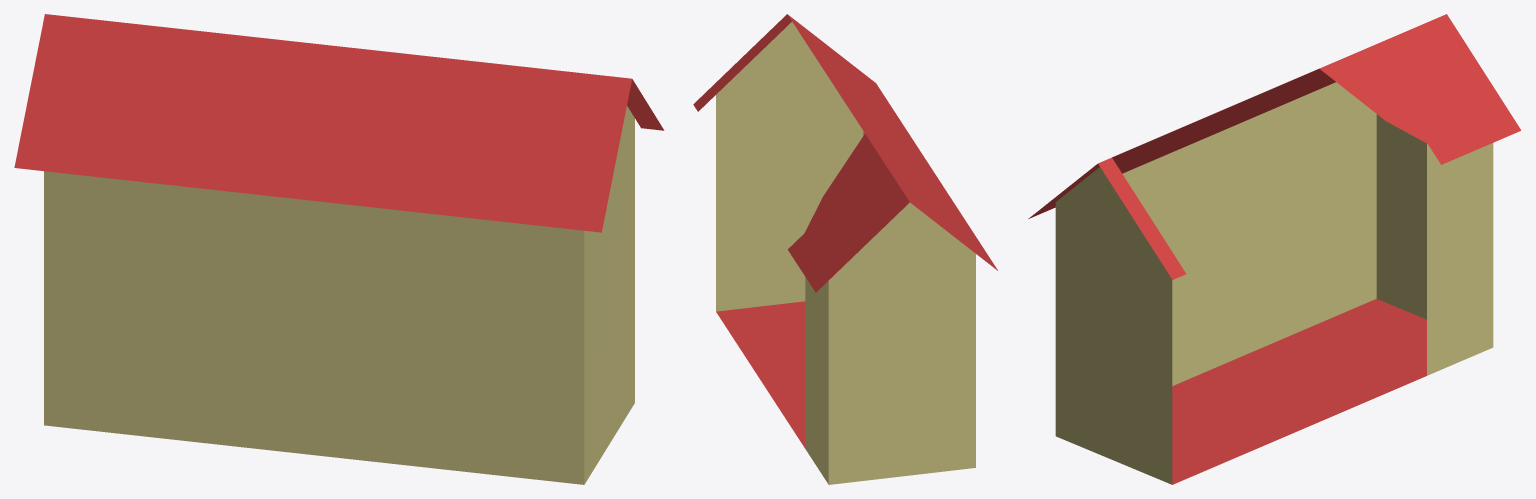
The picture shows the model from 3 angles, left to right: view 1: azimuth 30°, elevation 25°; view 2: azimuth 150°, elevation 25°; view 3: azimuth 270°, elevation 25°; orthographic projection. The views are drawn at different scales.
Bounding box in the file's own units: 18.73 × 18.63 × 12.57.
